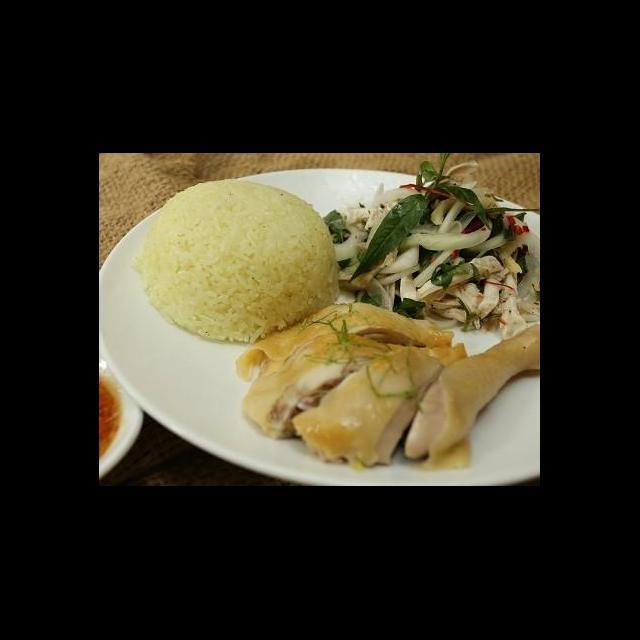com: (130, 177, 344, 346)
com ga: (106, 168, 540, 482)
rau ram: (348, 154, 496, 284), (350, 286, 430, 324), (428, 256, 484, 296)
thit ga: (240, 332, 472, 444), (288, 340, 472, 472), (394, 320, 540, 474), (232, 297, 458, 388), (414, 252, 506, 328)
